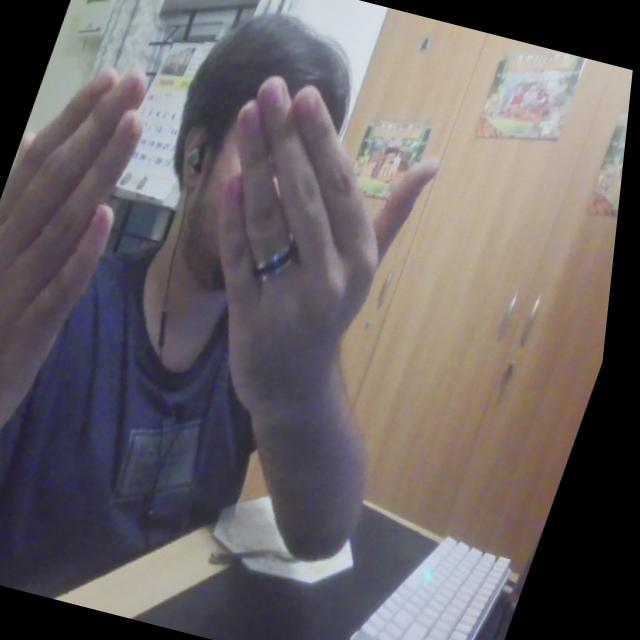thankyou: (0, 20, 474, 546)
